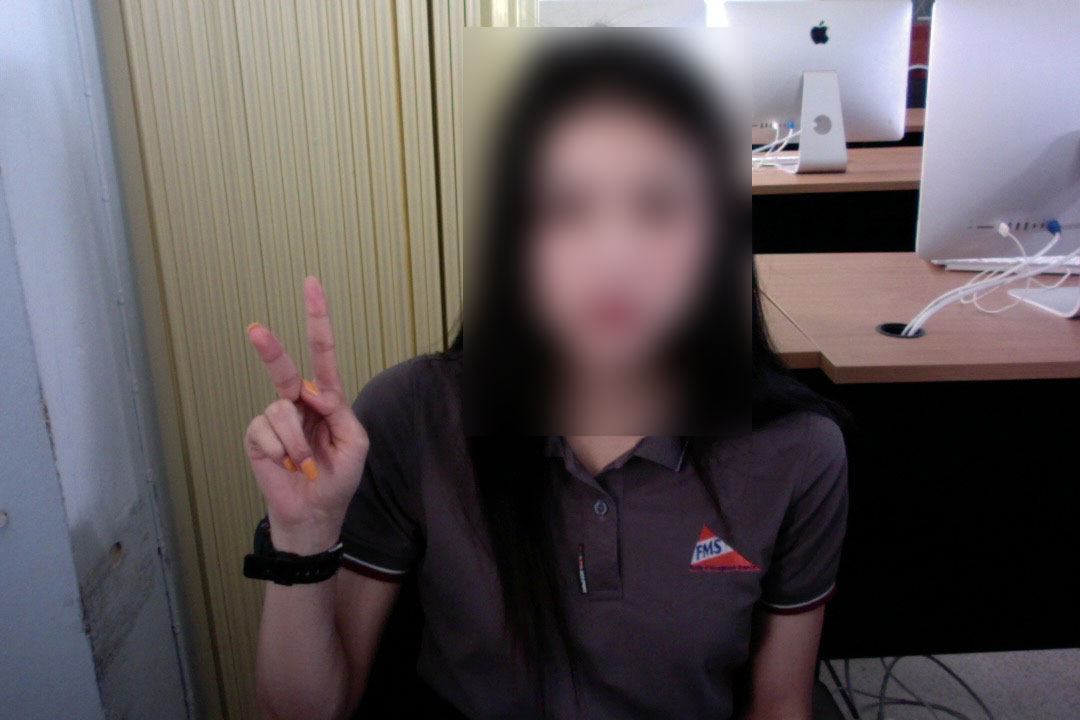ko: (235, 265, 372, 557)
